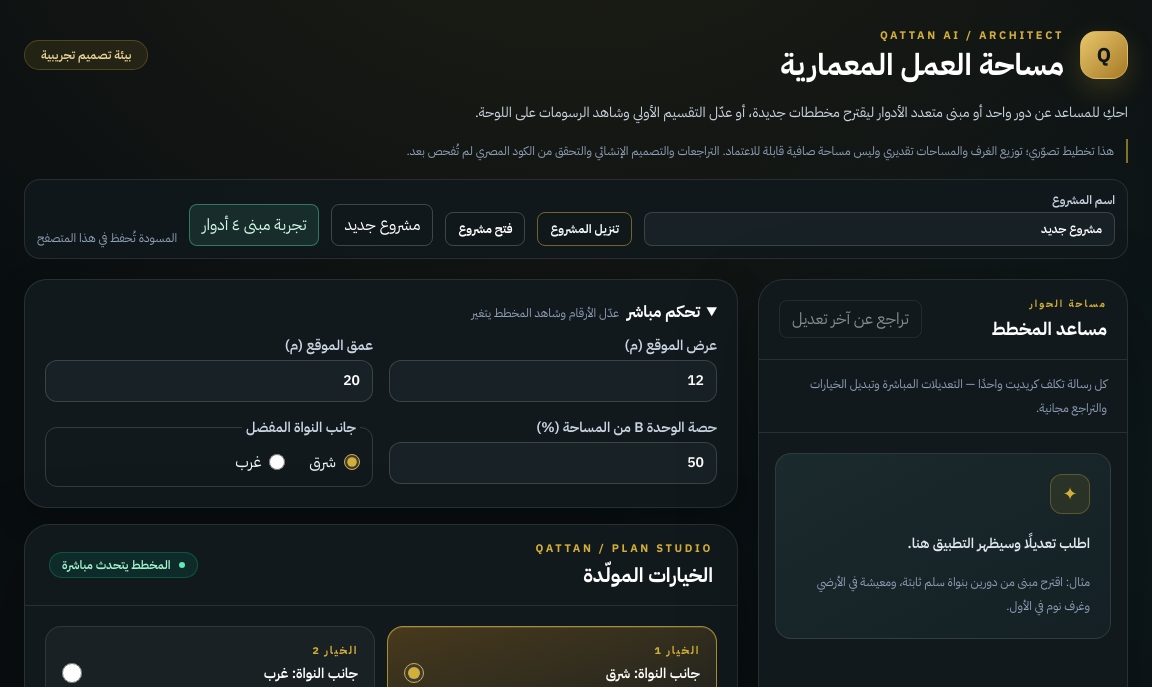
Test: ArchitectWorkspace layout and canvas › really clears the current building when starting a new project
The image size is (1152, 687).
Click the button "تجربة مبنى ٤ أدوار" at (254, 224), box top-left (189, 204), bottom-right (320, 246)
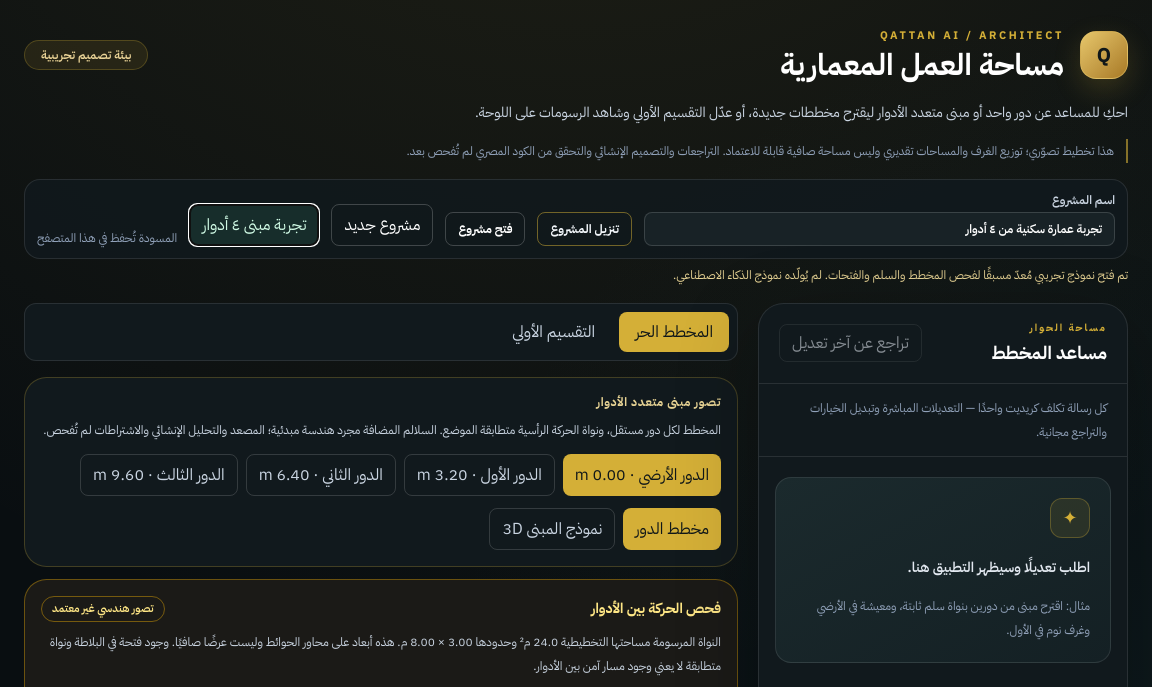
Check: the heading "فحص الحركة بين الأدوار" is shown, box top-left (591, 599), bottom-right (721, 619)
Click the button "مشروع جديد" at (382, 224), box top-left (331, 204), bottom-right (433, 246)
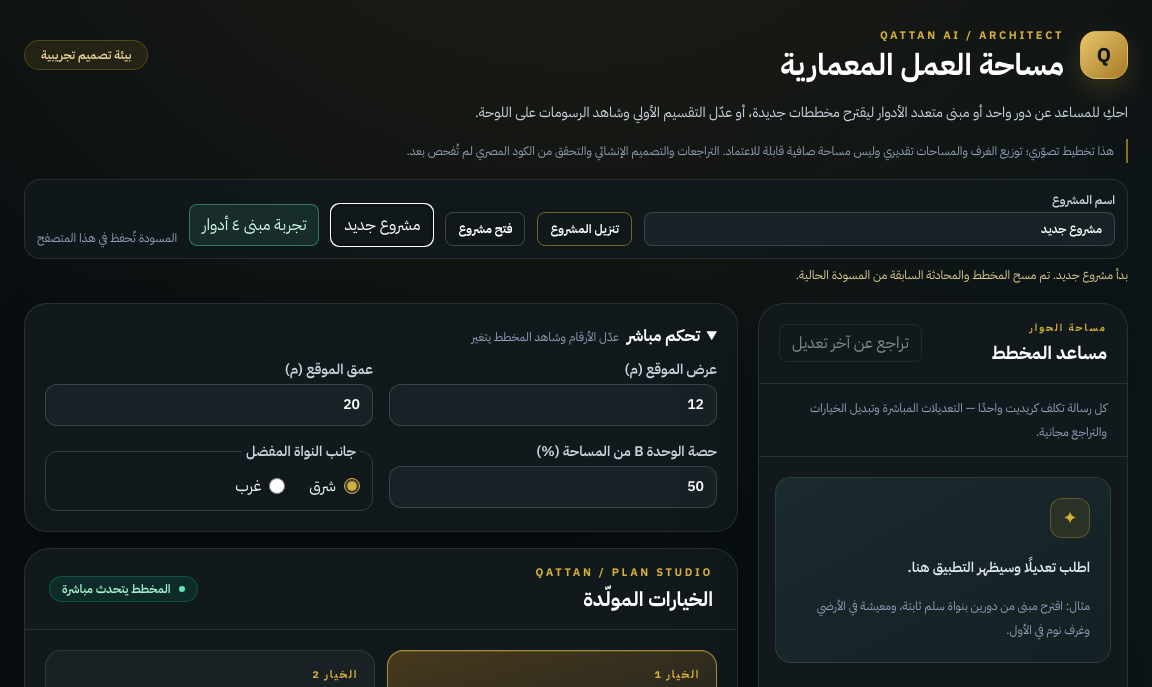
Check: the heading "فحص الحركة بين الأدوار" is gone
